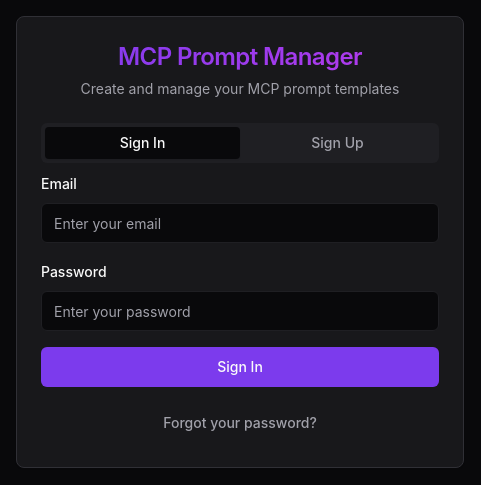
Test: AuthForm › navigates back from password reset form
The image size is (481, 485).
// Navigate to reset form
Click the button "Forgot your password?".
click(240, 423)  # box [147, 403, 333, 443]
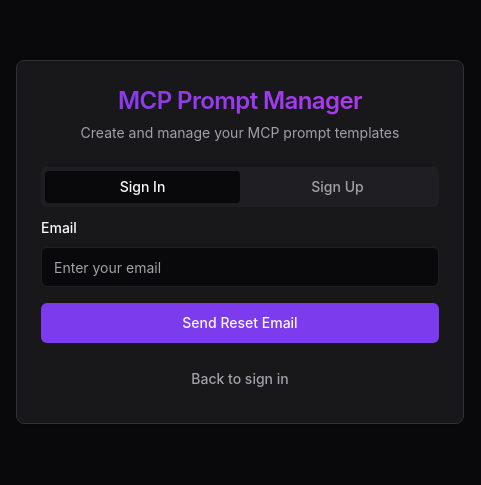
Result: the button "Send Reset Email" is shown at [41, 303, 439, 343]
// Click back to sign in (lines 201-203)
Click the button "Back to sign in".
click(240, 379)  # box [175, 359, 305, 399]
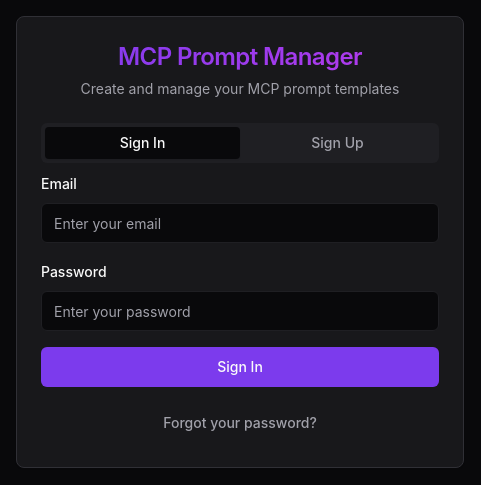
Expected: the tab "Sign In" is shown, [45, 127, 240, 159]
Result: the button "Send Reset Email" is gone
